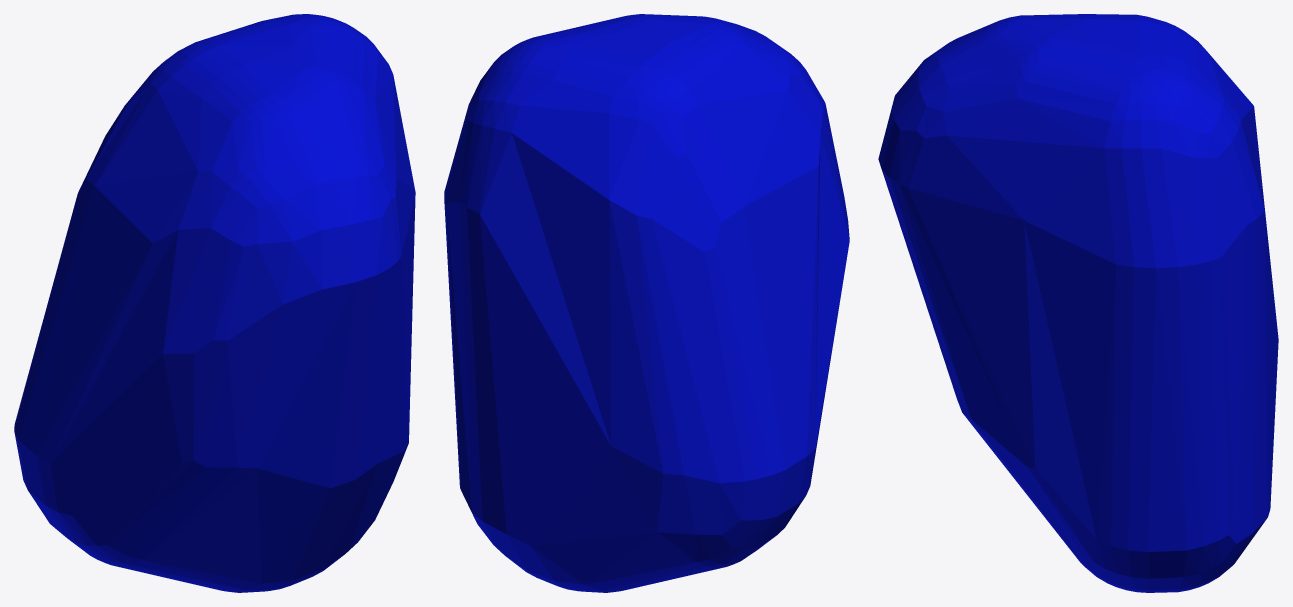
File: COL_hollie_real.020.dae
The picture shows the model from 3 angles, left to right: view 1: azimuth 30°, elevation 25°; view 2: azimuth 150°, elevation 25°; view 3: azimuth 270°, elevation 25°; orthographic projection. The views are drawn at different scales.
Parts seen in each view (by area): view 1: COL_COL_COL_VIS_VIS_VIS_VIS_VIS_VIS_VIS_VIS_VIS_hollie_real_; view 2: COL_COL_COL_VIS_VIS_VIS_VIS_VIS_VIS_VIS_VIS_VIS_hollie_real_; view 3: COL_COL_COL_VIS_VIS_VIS_VIS_VIS_VIS_VIS_VIS_VIS_hollie_real_.
Boxes of the visible parts, x1,y1,x2,y2 form: COL_COL_COL_VIS_VIS_VIS_VIS_VIS_VIS_VIS_VIS_VIS_hollie_real_: (14,14,415,592); COL_COL_COL_VIS_VIS_VIS_VIS_VIS_VIS_VIS_VIS_VIS_hollie_real_: (444,14,849,592); COL_COL_COL_VIS_VIS_VIS_VIS_VIS_VIS_VIS_VIS_VIS_hollie_real_: (878,14,1278,592).
Size of the model in its own units: 0.0879 by 0.0854 by 0.127.
